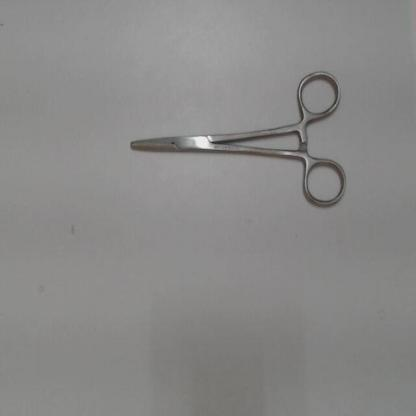Mayo Needle Holder: (118, 67, 351, 221)
